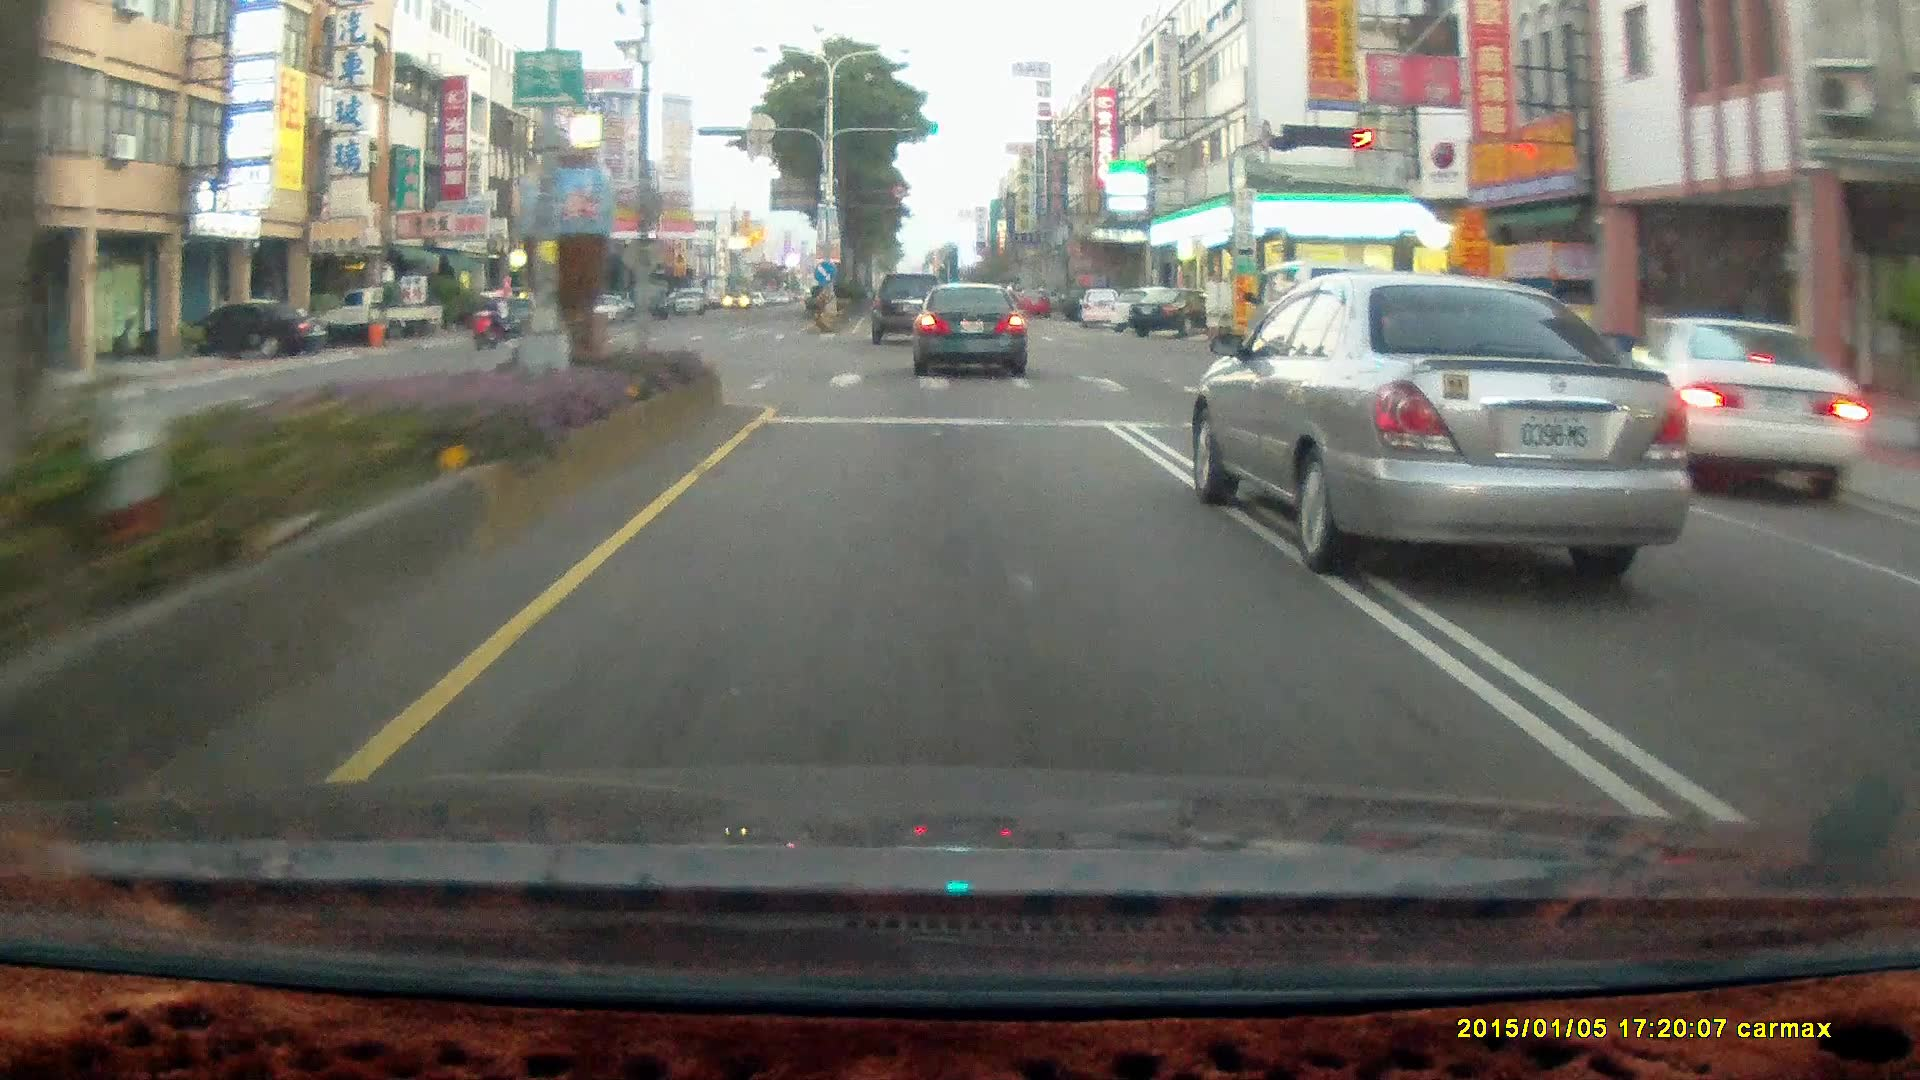rider: (474, 290, 510, 345)
vehicle: (1188, 271, 1696, 575), (1616, 321, 1877, 508), (1611, 315, 1872, 502), (1252, 264, 1423, 385), (912, 281, 1030, 381), (911, 279, 1025, 376), (162, 301, 322, 357), (204, 301, 329, 362), (328, 288, 447, 352), (315, 284, 442, 341), (872, 270, 958, 347), (874, 271, 950, 343), (1129, 283, 1220, 334), (1131, 287, 1203, 344), (1107, 288, 1165, 330), (1075, 285, 1124, 326), (584, 295, 626, 324), (1014, 285, 1048, 315), (669, 287, 700, 311)
